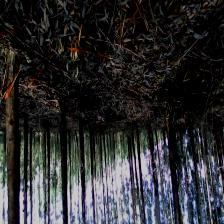trunk: (5, 52, 20, 224), (166, 119, 181, 219), (147, 124, 160, 215), (58, 103, 68, 221), (136, 128, 144, 210), (79, 118, 85, 201), (23, 114, 28, 207), (89, 127, 94, 203), (46, 128, 50, 201), (29, 129, 32, 195)
